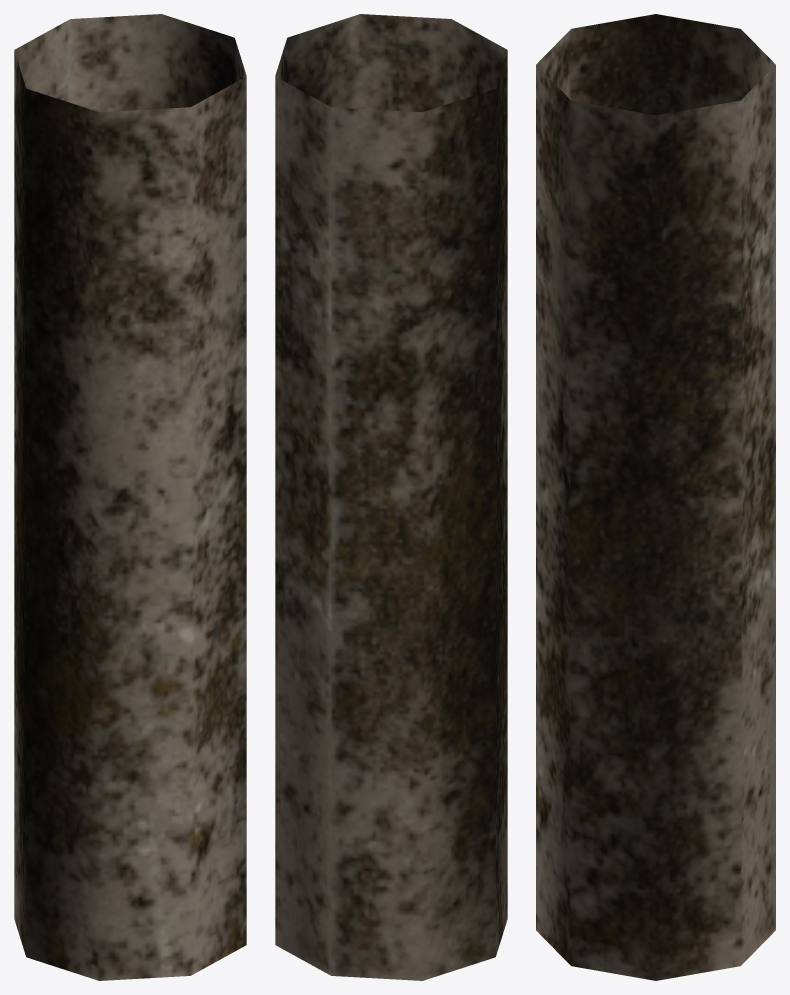
File: ExtPipe_05.FBX
3 renders of one model, left to right at view 1: azimuth 30°, elevation 25°; view 2: azimuth 150°, elevation 25°; view 3: azimuth 270°, elevation 25°, orthographic.
Visible parts, largest first — view 1: ExtPipe_05; view 2: ExtPipe_05; view 3: ExtPipe_05.
Boxes of the visible parts, x1,y1,x2,y2 form: ExtPipe_05: [14, 14, 246, 980]; ExtPipe_05: [275, 14, 507, 980]; ExtPipe_05: [536, 14, 775, 980].
Size of the model in its own units: 12 by 47.76 by 12.
